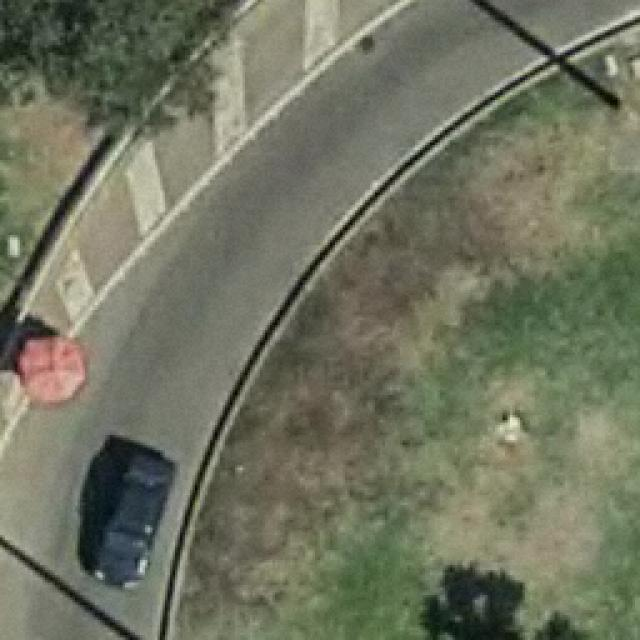vendedor_ambulante: (10, 326, 93, 411)
